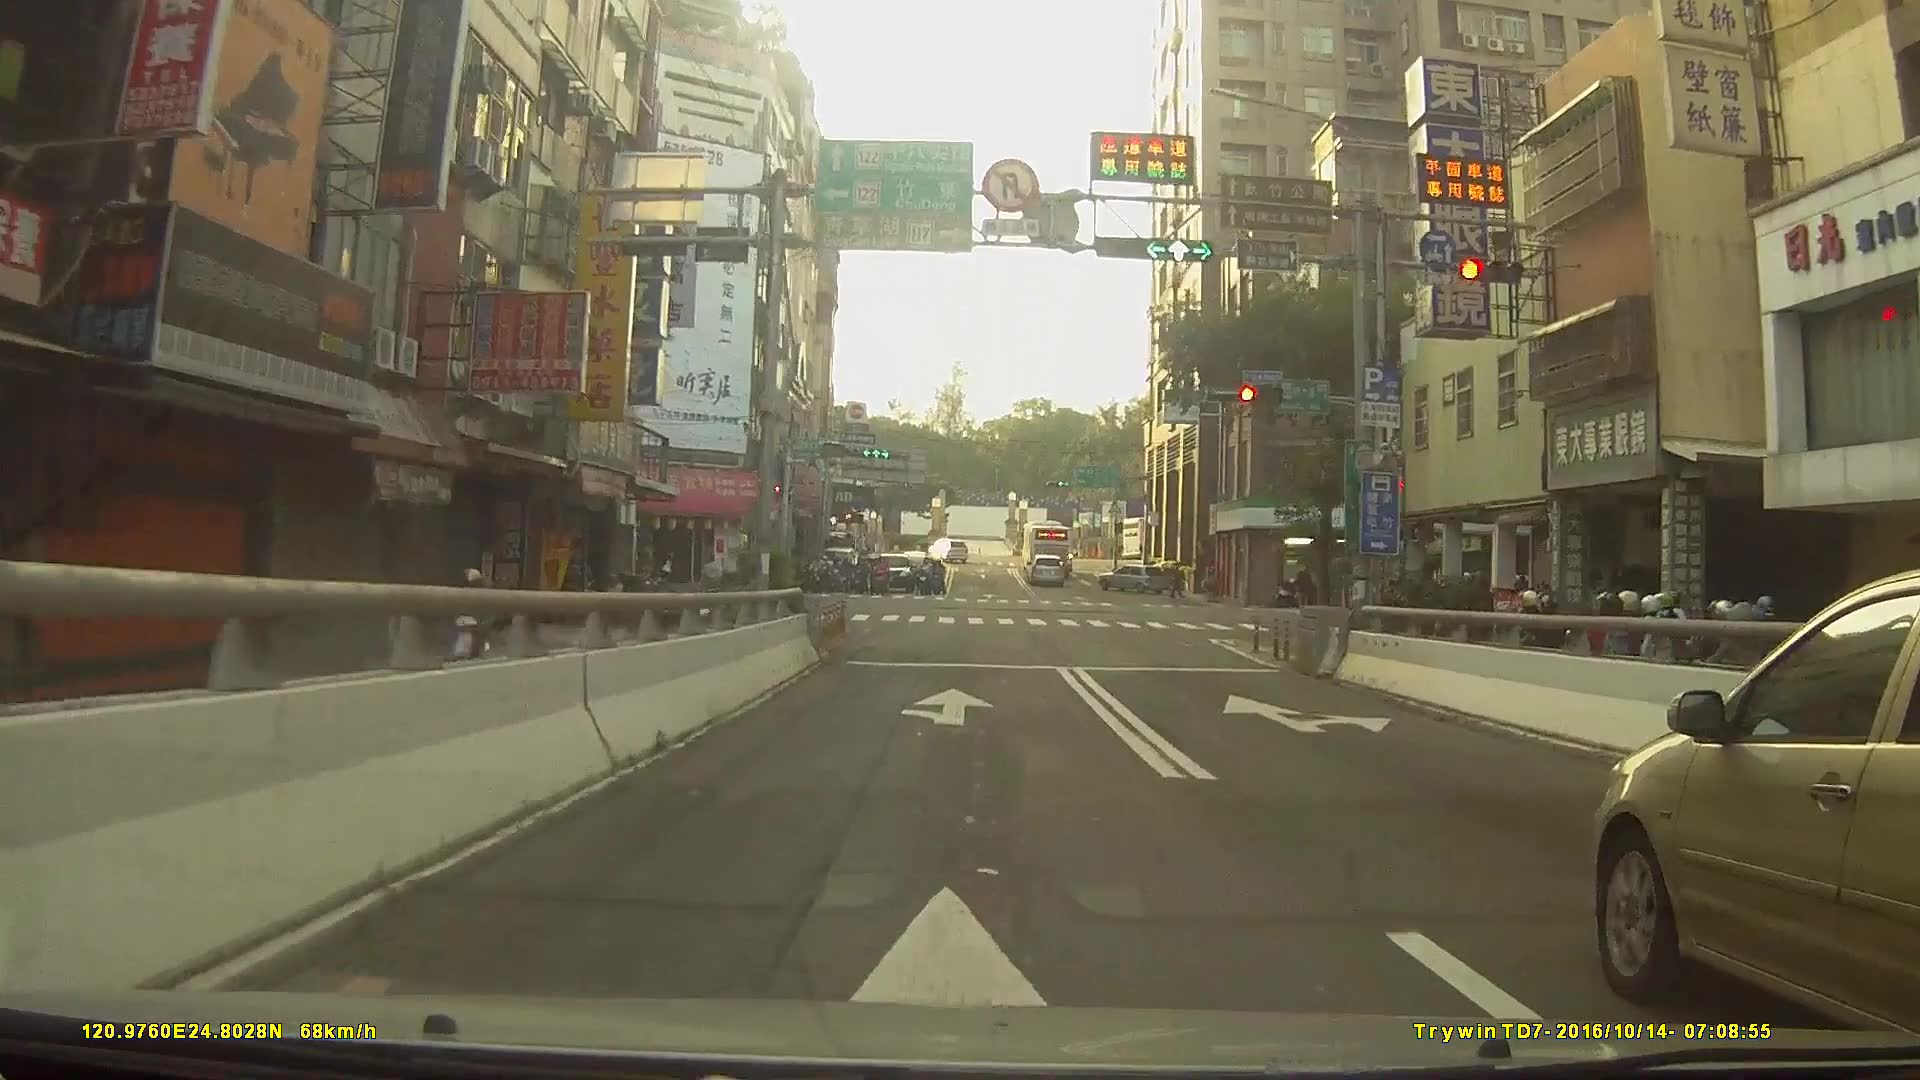pedestrian: (1293, 570, 1317, 611)
rider: (451, 569, 500, 690)
vehicle: (1594, 563, 1920, 1069), (1097, 560, 1172, 594), (1025, 521, 1073, 569), (871, 552, 914, 589), (1028, 551, 1067, 586), (926, 533, 966, 562)
